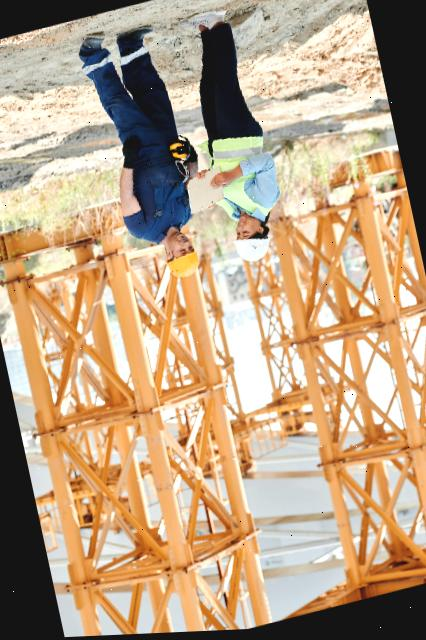helmet: (233, 234, 270, 267), (164, 251, 203, 282)
vest: (202, 133, 281, 228)
